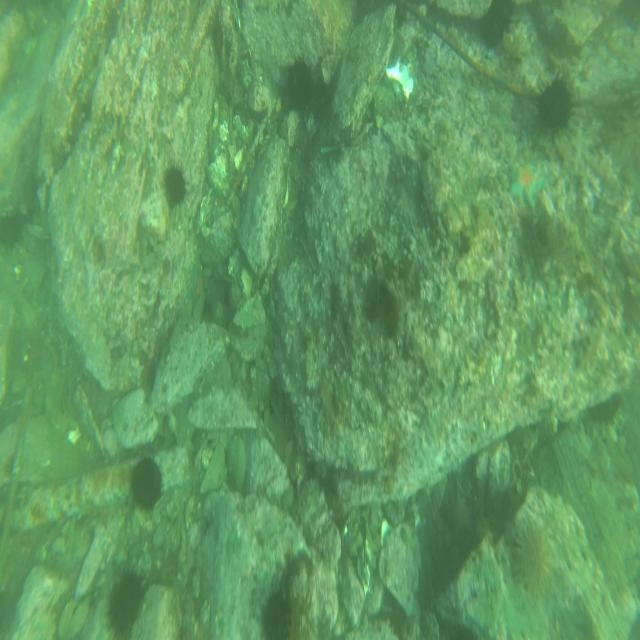echinus: (509, 519, 554, 595), (534, 70, 575, 138), (107, 569, 143, 640), (130, 457, 163, 512), (284, 55, 316, 110), (259, 589, 293, 640), (162, 159, 190, 210)
starfish: (513, 154, 546, 210), (446, 488, 474, 543), (182, 258, 210, 308)
